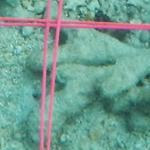dead: (64, 35, 145, 146)
